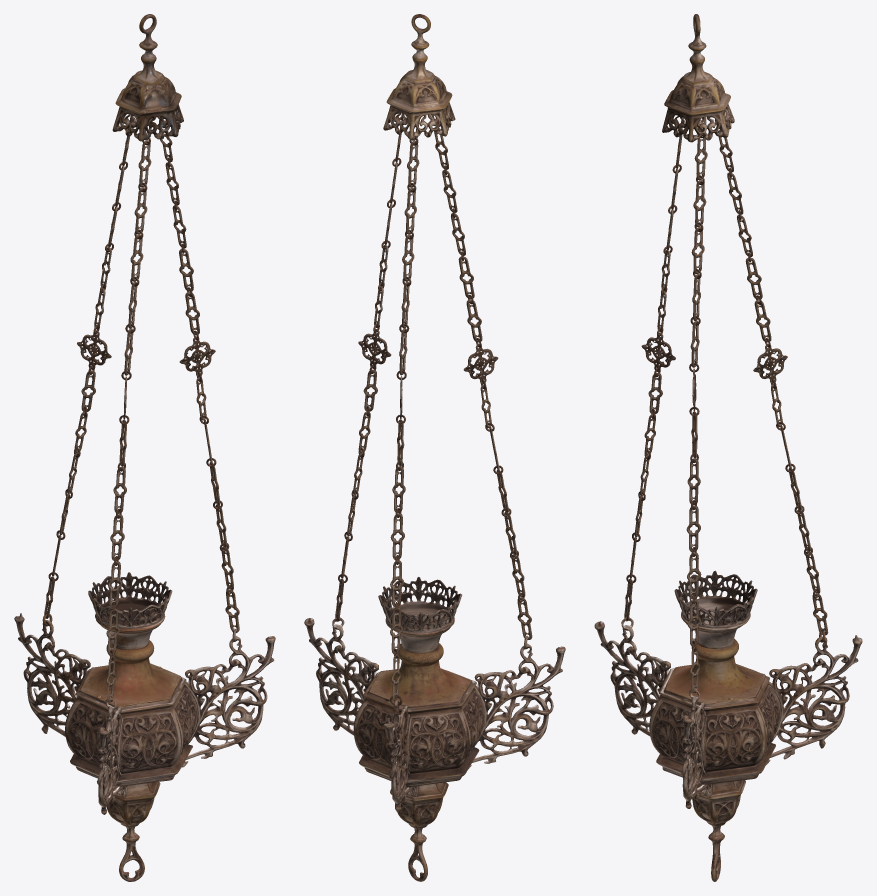
The model's file is preview.glb.
The picture shows the model from 3 angles, left to right: view 1: azimuth 30°, elevation 25°; view 2: azimuth 150°, elevation 25°; view 3: azimuth 270°, elevation 25°; orthographic projection.
Parts seen in each view (by area): view 1: Object_12, Object_19, Object_8, Object_4, Object_16, Object_6, Object_22; view 2: Object_12, Object_8, Object_19, Object_4, Object_22, Object_16, Object_6; view 3: Object_12, Object_19, Object_8, Object_6, Object_4, Object_22, Object_16.
Boxes of the visible parts, box(x1,y1,x2,y2) form: Object_12: box(65, 640, 198, 881); Object_19: box(106, 117, 239, 702); Object_8: box(97, 621, 275, 814); Object_4: box(112, 14, 183, 141); Object_16: box(88, 572, 172, 650); Object_6: box(14, 613, 90, 736); Object_22: box(42, 114, 133, 626); Object_12: box(353, 643, 485, 881); Object_8: box(304, 611, 565, 768); Object_19: box(335, 113, 532, 639); Object_4: box(383, 14, 455, 139); Object_22: box(390, 118, 420, 705); Object_16: box(378, 577, 462, 653); Object_6: box(383, 700, 417, 812); Object_12: box(649, 639, 781, 881); Object_19: box(624, 117, 707, 692); Object_8: box(594, 616, 711, 808); Object_6: box(766, 635, 862, 764); Object_4: box(662, 14, 734, 142); Object_22: box(716, 123, 828, 642); Object_16: box(674, 570, 757, 648).
Bounding box in the file's own units: 1.66 × 6.28 × 1.76.
7 materials, 7 textured.
